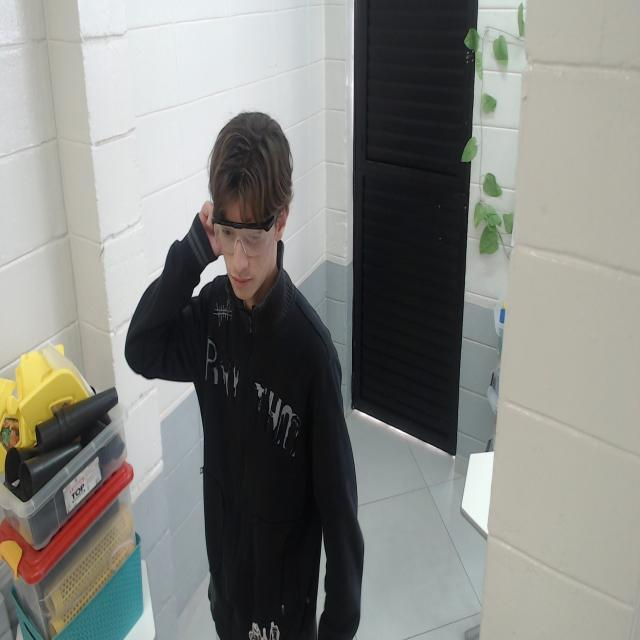oculos-epi: (212, 209, 277, 258)
